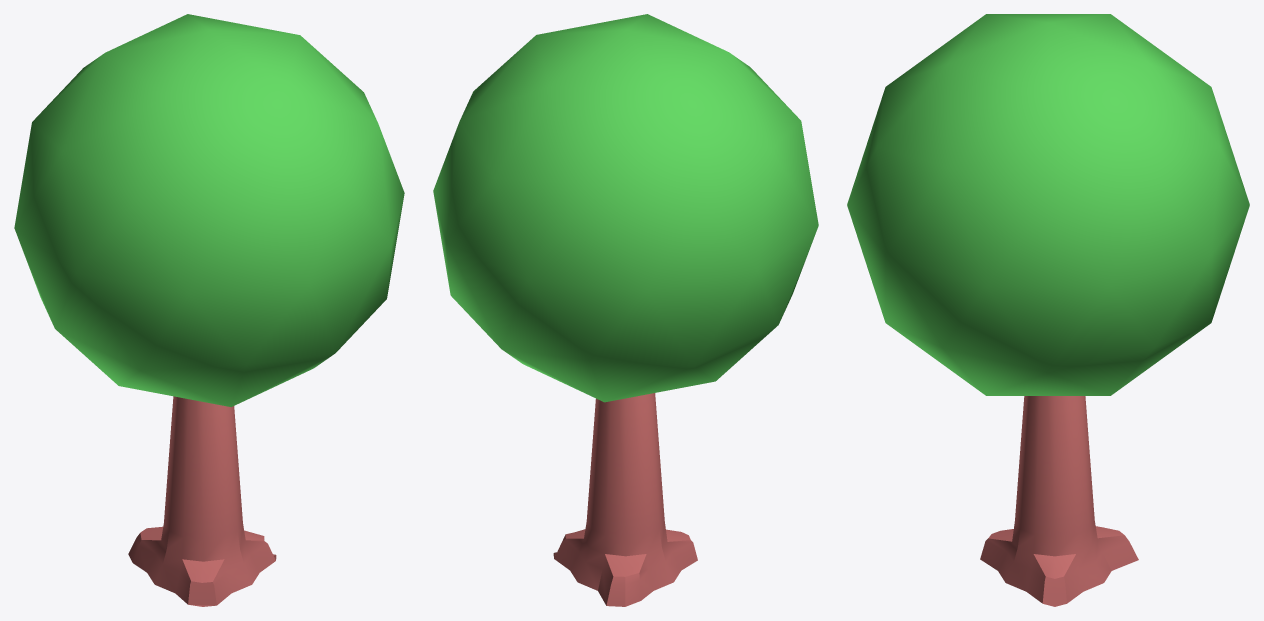
File: Tree.fbx
3 views of the same model, side by side, from view 1: azimuth 30°, elevation 25°; view 2: azimuth 150°, elevation 25°; view 3: azimuth 270°, elevation 25° (orthographic). The views are drawn at different scales.
Parts seen in each view (by area): view 1: Tree; view 2: Tree; view 3: Tree.
Part boxes in pixels (x1,y1,x2,y2): Tree: (14, 14, 404, 606); Tree: (433, 14, 818, 606); Tree: (847, 14, 1249, 606).
Bounding box in the file's own units: 260 × 411 × 273.
